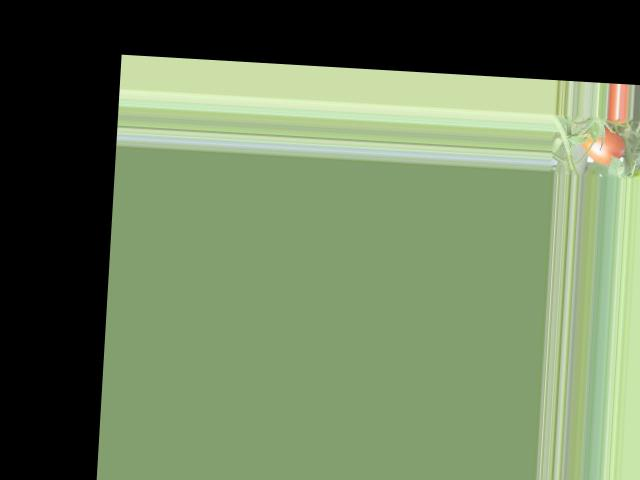tomato: (581, 126, 626, 166)
